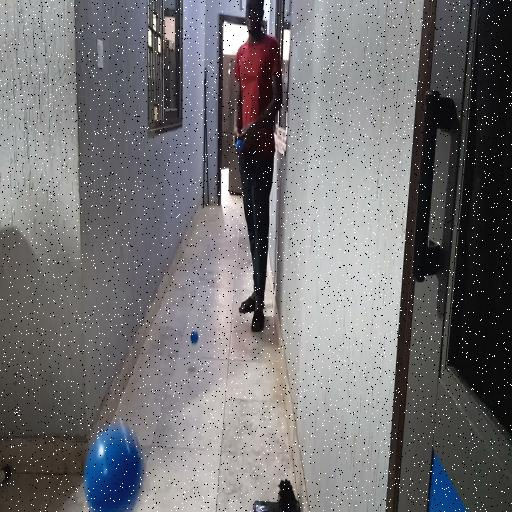plastic-ball: (84, 417, 146, 512)
